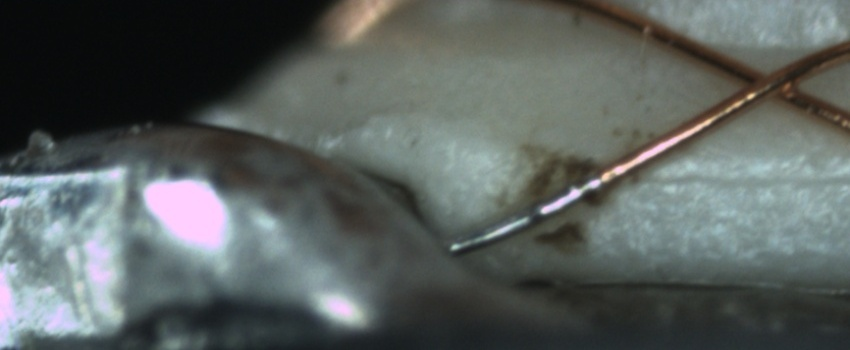CL: (720, 51, 818, 112)
DL: (627, 148, 850, 211)
TS: (447, 173, 602, 253)
